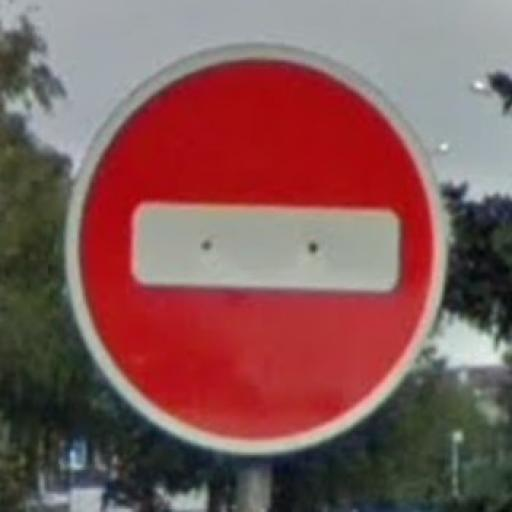traffic_sign: (62, 39, 456, 464)
